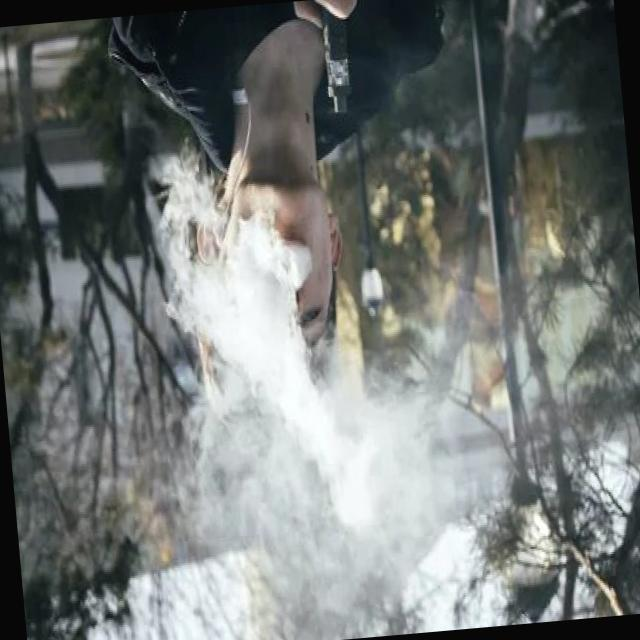cigarette: (309, 0, 359, 119)
